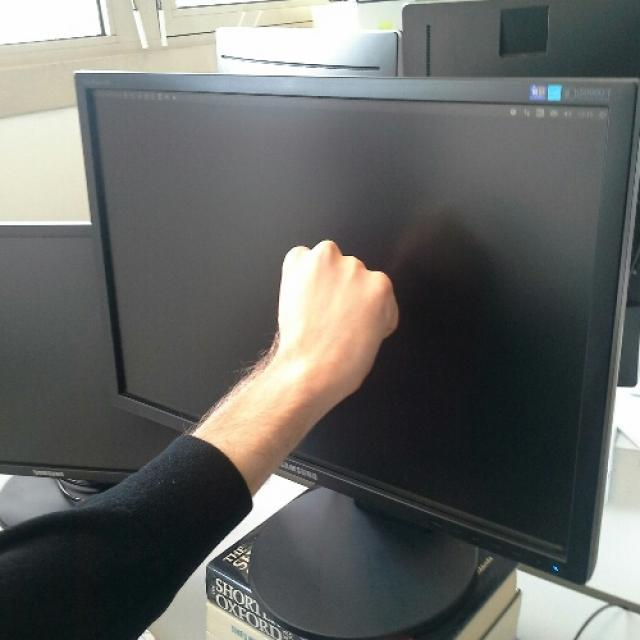rock: (280, 239, 402, 394)
